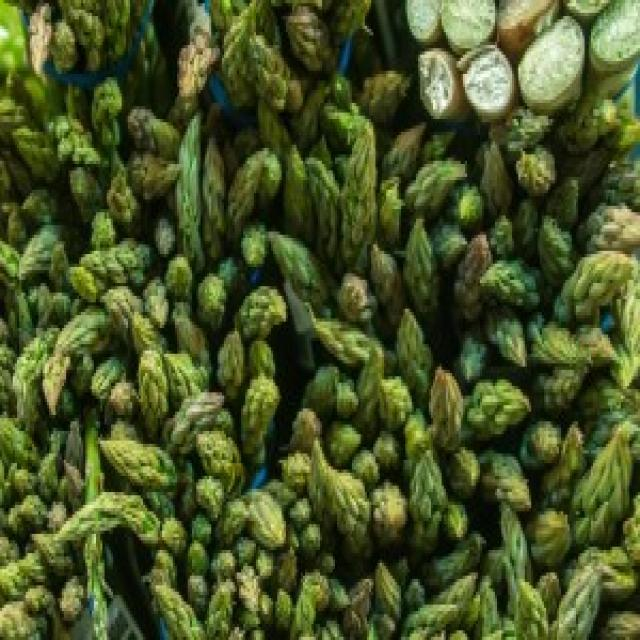Healthy: (1, 72, 639, 638)
